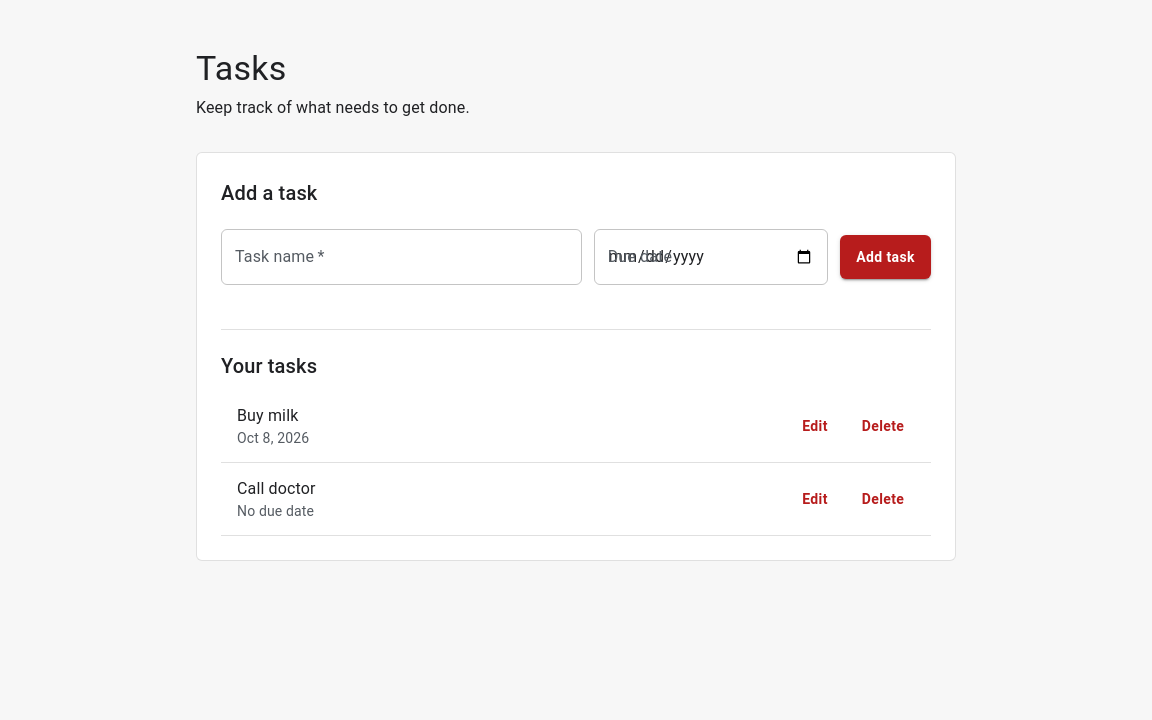
Test: App Component › edits a task name and due date
Click the button with aria-label "Edit Buy milk": {"x": 815, "y": 426} [783,404,847,448]
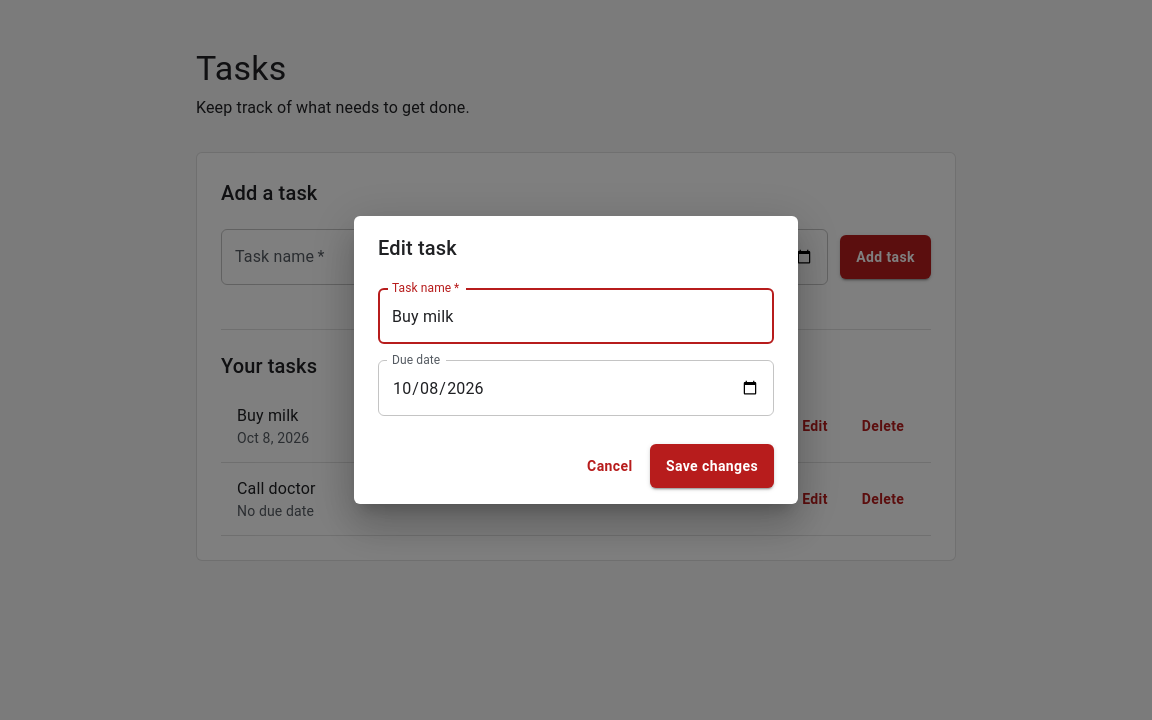
Replace the text in the field labelled "Task name *" with "Buy oat milk": {"x": 576, "y": 316} [378,288,774,344]
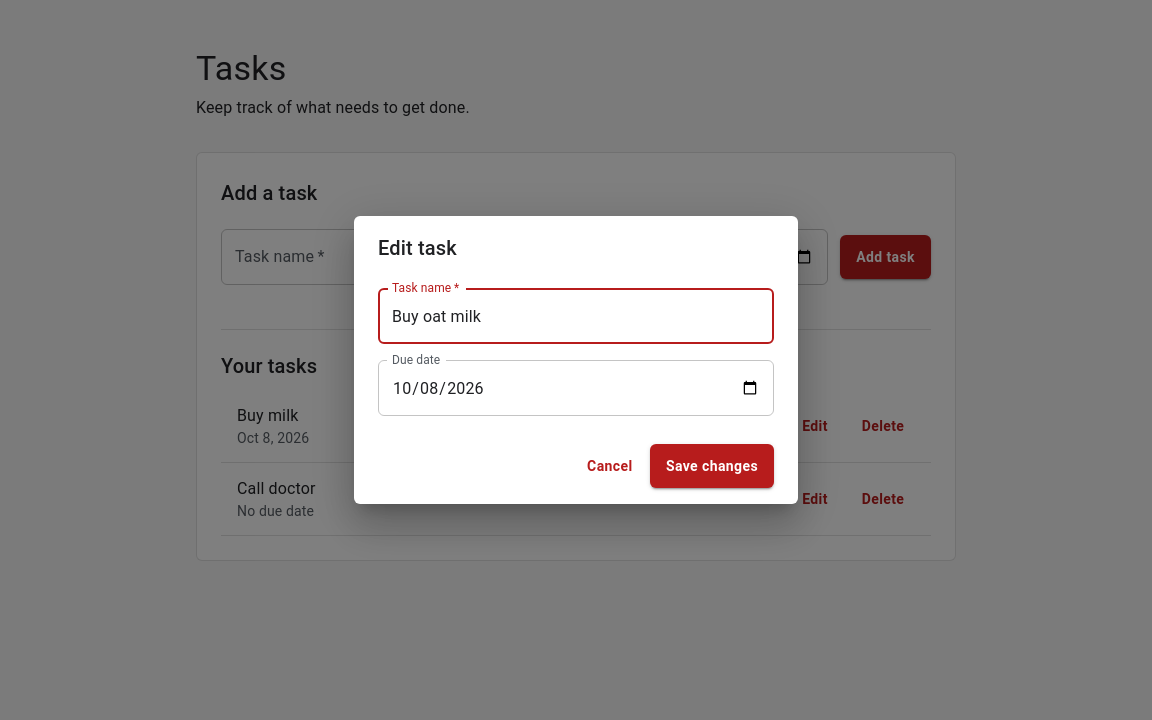
In the date field labelled "Due date": {"x": 576, "y": 388} [378,360,774,416], type "2026-10-20"
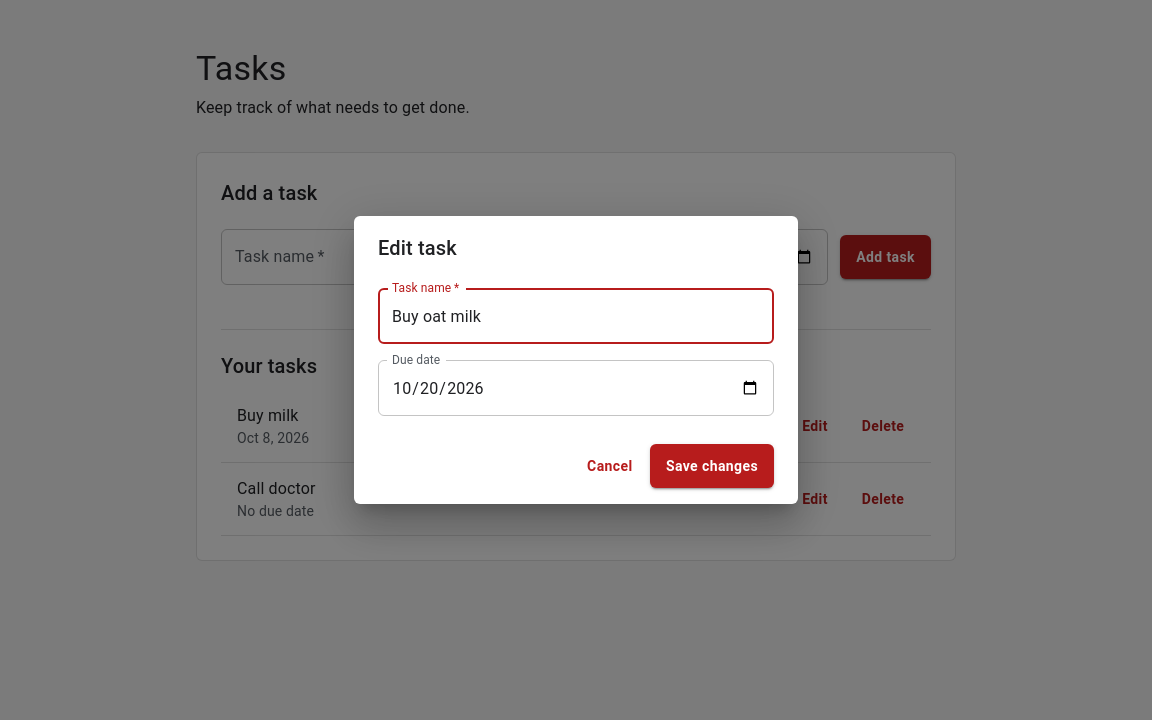
Click the button "Save changes": {"x": 712, "y": 466} [650,444,774,488]
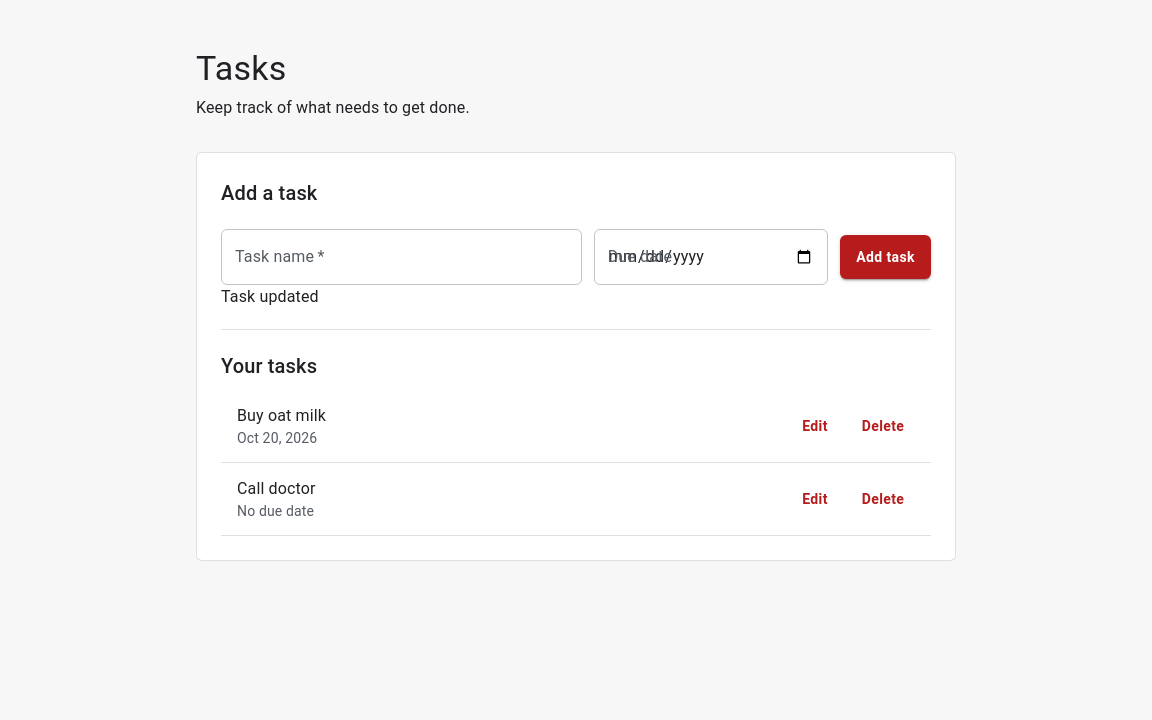
expect the text "Buy oat milk" is shown: met, box [237,406,326,425]
expect the text "Oct 20, 2026" is shown: met, box [237,430,317,446]
expect the text "Buy milk" is gone: met
